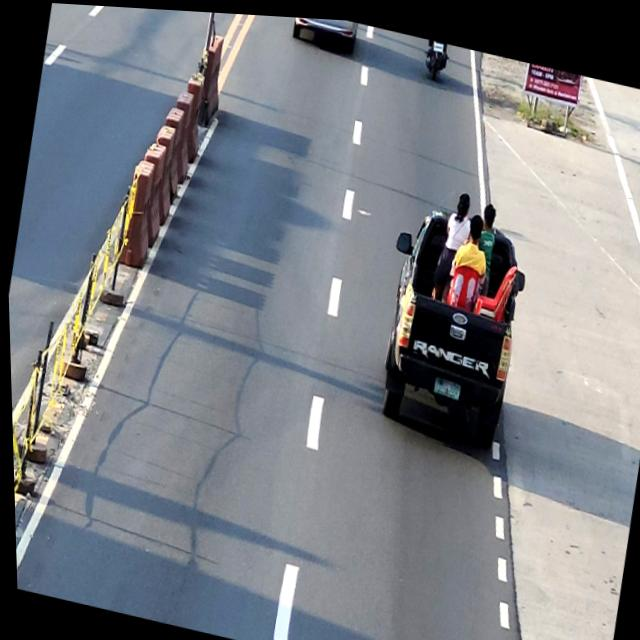Car: (362, 193, 536, 444)
License-Plate: (429, 369, 460, 395)
